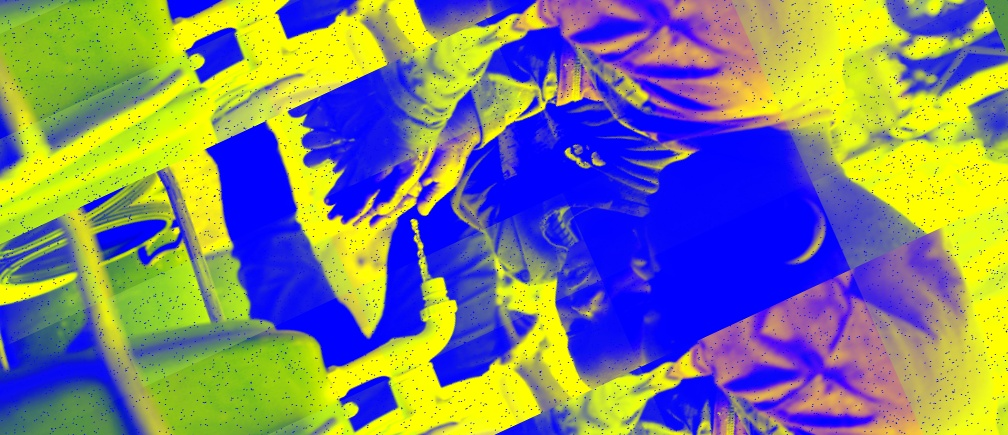washing hand: (272, 89, 552, 434)
